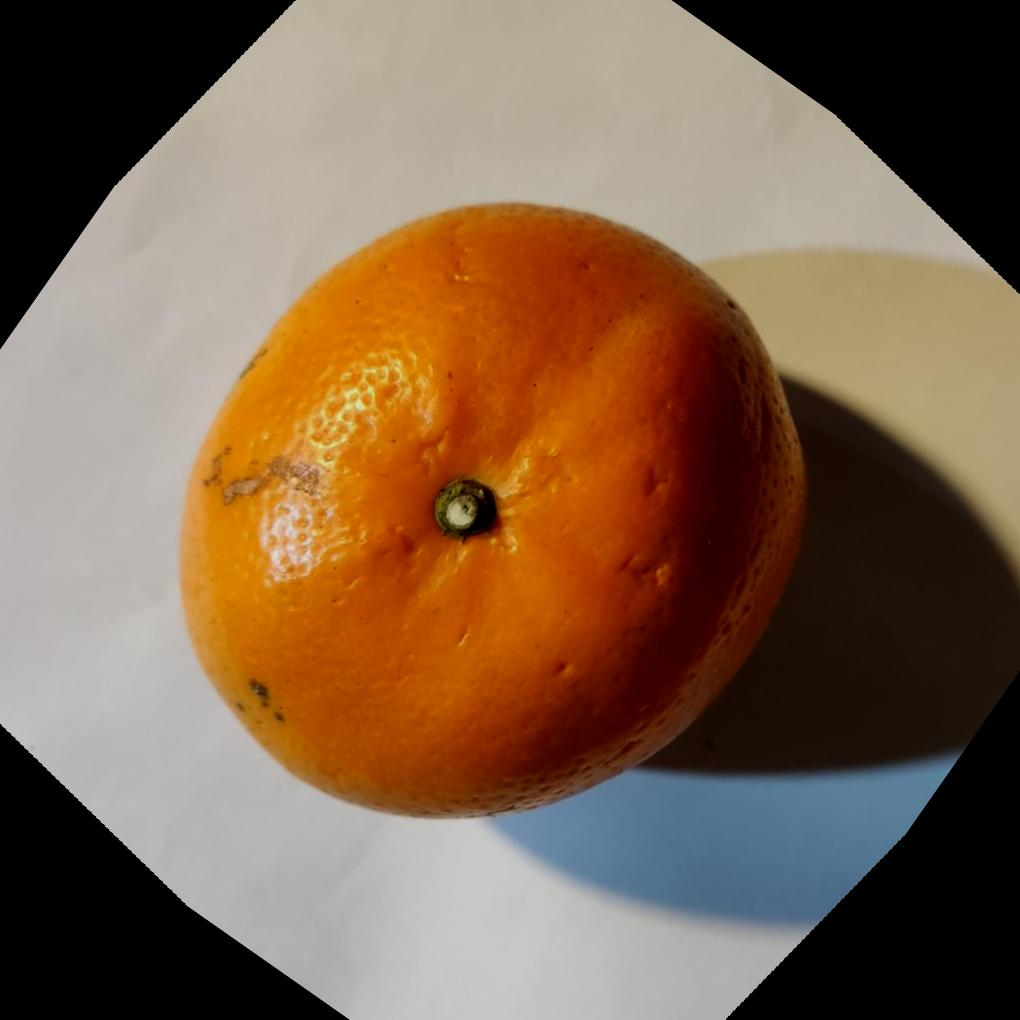FreshGuava: (174, 201, 807, 824)
